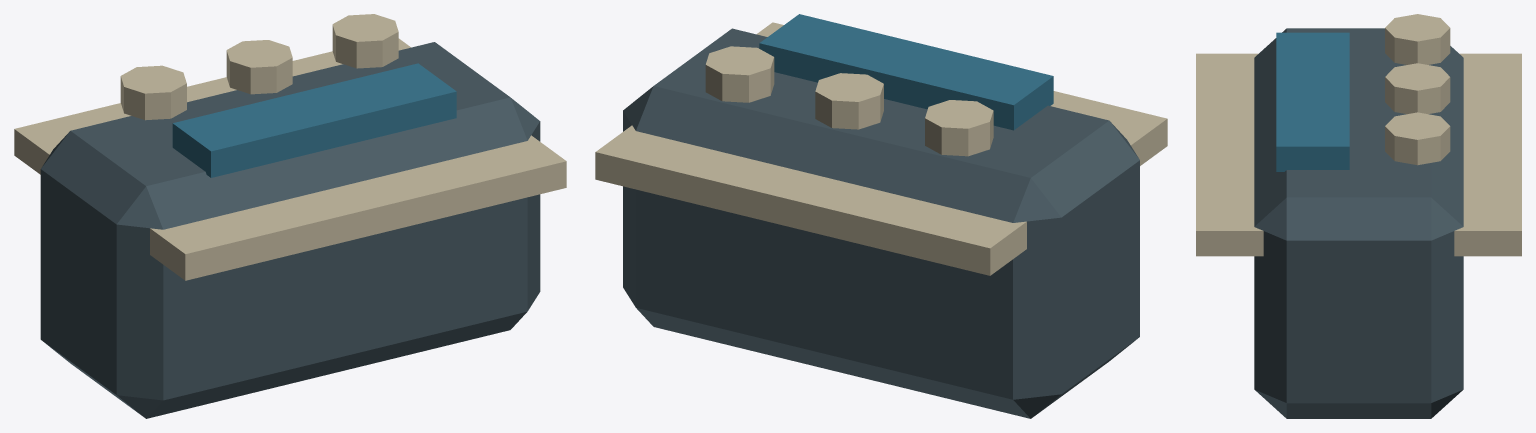
File: set_desk_calendar.glb
The picture shows the model from 3 angles, left to right: view 1: azimuth 30°, elevation 25°; view 2: azimuth 150°, elevation 25°; view 3: azimuth 270°, elevation 25°; orthographic projection. The views are drawn at different scales.
Visible parts, largest first — view 1: set_desk_calendar; view 2: set_desk_calendar; view 3: set_desk_calendar.
Boxes of the visible parts, x1,y1,x2,y2 form: set_desk_calendar: [14, 14, 566, 418]; set_desk_calendar: [595, 14, 1167, 418]; set_desk_calendar: [1196, 14, 1521, 418].
Bounding box in the file's own units: 0.2 × 0.122 × 0.14.
